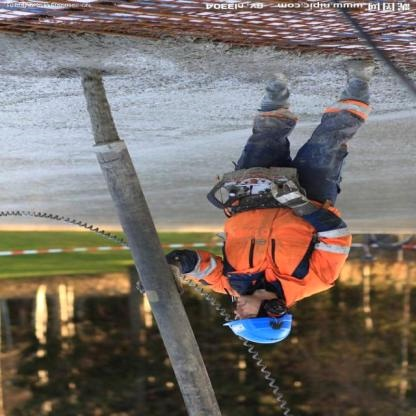blue: (220, 312, 305, 348)
vest: (186, 207, 357, 306)
